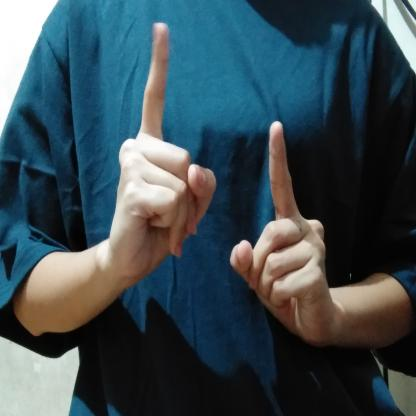morning: (100, 19, 350, 359)
